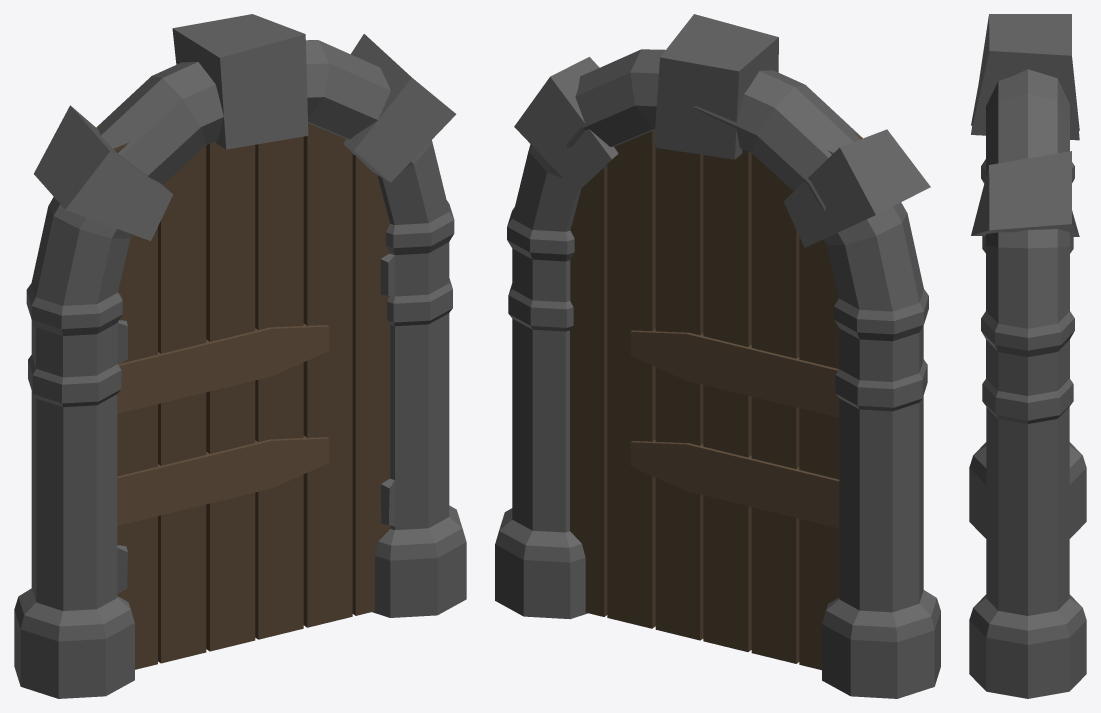
Rendered from Door.fbx.
3 views of the same model, side by side, from view 1: azimuth 30°, elevation 25°; view 2: azimuth 150°, elevation 25°; view 3: azimuth 270°, elevation 25° (orthographic). The views are drawn at different scales.
Parts seen in each view (by area): view 1: Cylinder, Cube.009, Cube.007, Cube.008, Cube.006, Cube.001, Cube.010, Cube, Cube.005, Cube.003, Cube.002; view 2: Cylinder, Cube.009, Cube.008, Cube.007, Cube.006, Cube.001, Cube.010, Cube, Cube.005, Cube.003, Cube.002; view 3: Cylinder, Cube.001, Cube.
Part boxes in pixels (<box>): Cylinder: <box>14,40,466,698</box>; Cube.009: <box>303,123,352,627</box>; Cube.007: <box>206,141,255,651</box>; Cube.008: <box>255,136,303,639</box>; Cube.006: <box>158,146,206,663</box>; Cube.001: <box>34,34,456,240</box>; Cube.010: <box>352,154,390,615</box>; Cube: <box>172,14,308,149</box>; Cube.005: <box>97,123,157,669</box>; Cube.003: <box>117,435,329,525</box>; Cube.002: <box>117,323,329,413</box>; Cylinder: <box>495,49,940,698</box>; Cube.009: <box>607,131,655,628</box>; Cube.008: <box>655,148,703,640</box>; Cube.007: <box>703,149,751,651</box>; Cube.006: <box>751,153,799,663</box>; Cube.001: <box>514,57,930,247</box>; Cube.010: <box>570,165,607,616</box>; Cube: <box>654,14,778,159</box>; Cube.005: <box>799,132,862,670</box>; Cube.003: <box>630,439,839,528</box>; Cube.002: <box>630,329,839,417</box>; Cylinder: <box>969,69,1086,698</box>; Cube.001: <box>971,58,1079,236</box>; Cube: <box>971,14,1079,140</box>.
Size of the model in its own units: 1935 by 2536 by 475.
